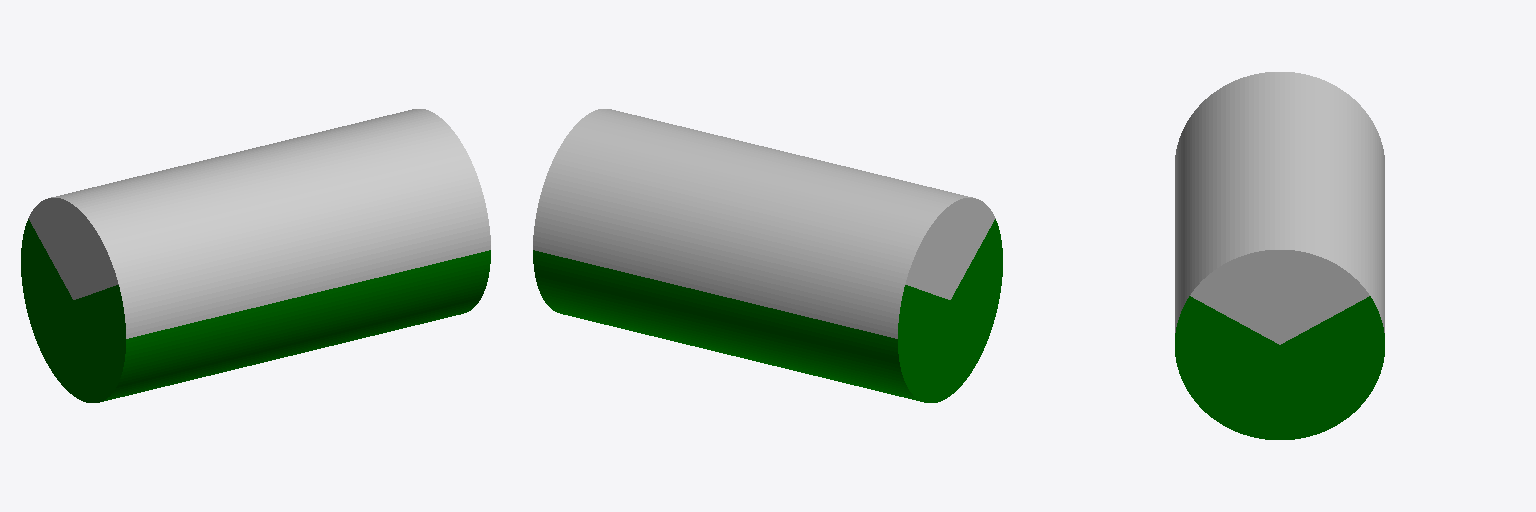
File: Бочка.obj
3 renders of one model, left to right at view 1: azimuth 30°, elevation 25°; view 2: azimuth 150°, elevation 25°; view 3: azimuth 270°, elevation 25°, orthographic.
Bounding box in the file's own units: 20 × 10 × 10.